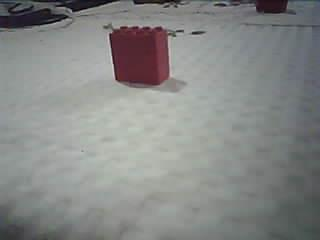lego: (108, 24, 170, 86)
